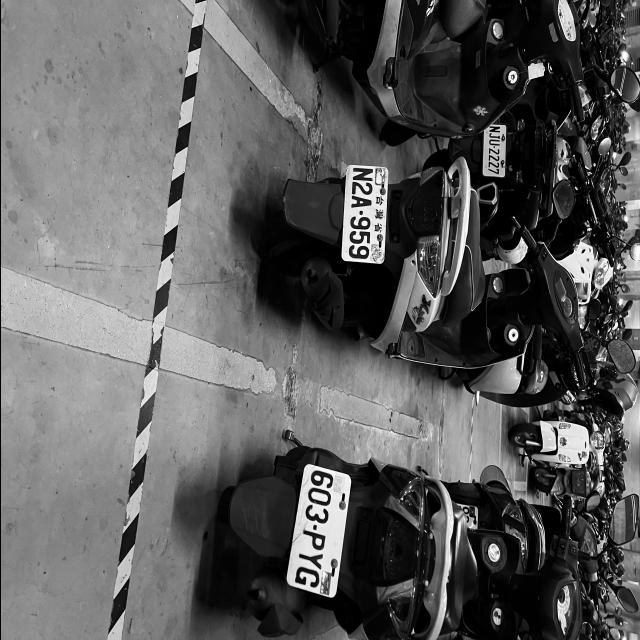-: (312, 524, 318, 530), (358, 210, 363, 216)
0: (306, 485, 332, 508)
2: (351, 181, 372, 196), (487, 155, 499, 161), (488, 162, 498, 168), (488, 148, 498, 154), (493, 146, 495, 148)
3: (303, 503, 329, 525)
5: (348, 230, 370, 244)
6: (308, 469, 335, 491)
7: (487, 168, 499, 174)
9: (348, 244, 370, 258), (349, 217, 371, 230)
A: (350, 195, 372, 209)
G: (293, 565, 321, 590)
J: (488, 133, 500, 139)
N: (351, 167, 374, 183), (488, 126, 500, 132)
P: (299, 528, 326, 551)
U: (488, 140, 499, 146)
Y: (297, 549, 323, 570)
plate: (287, 464, 349, 596), (343, 166, 386, 264)
